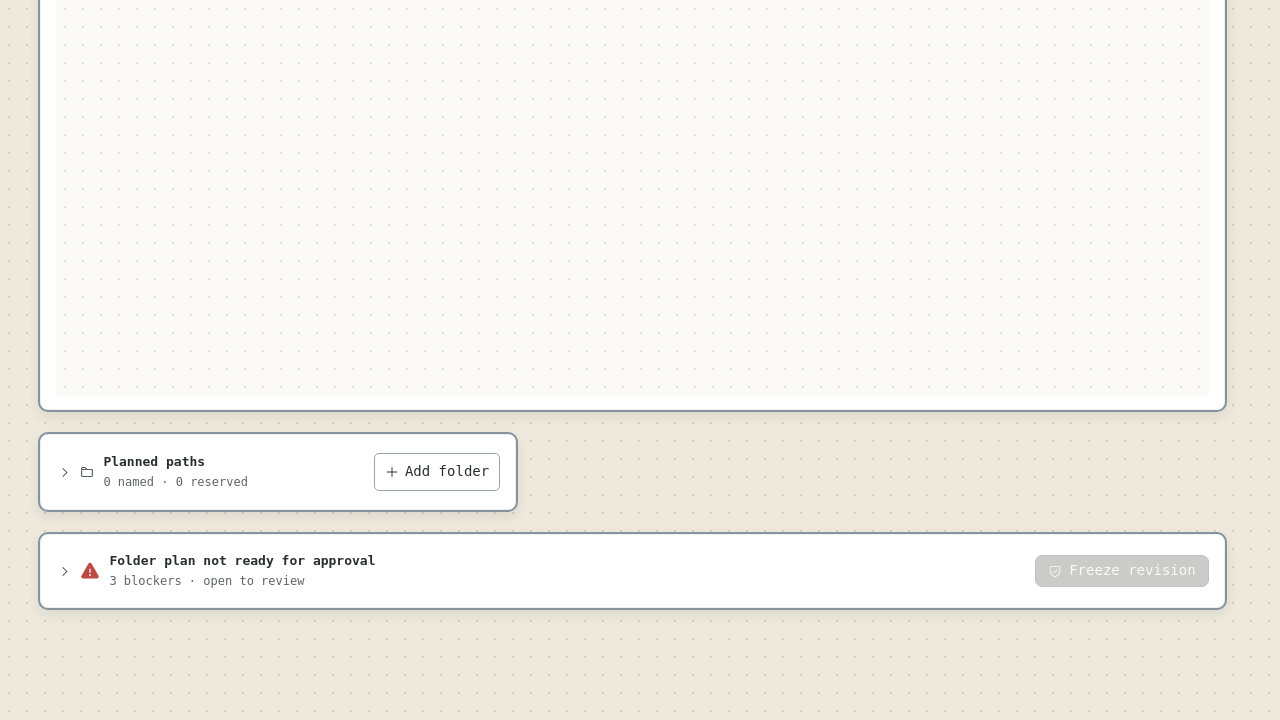
Test case: Define controls › define-14: with no project chosen, Structure shows an empty plan, not the Demo's sample folders
(page scrolled)
Click the button "Planned paths 0 named · 0 reserved".
click(209, 472)  # box [56, 448, 362, 496]
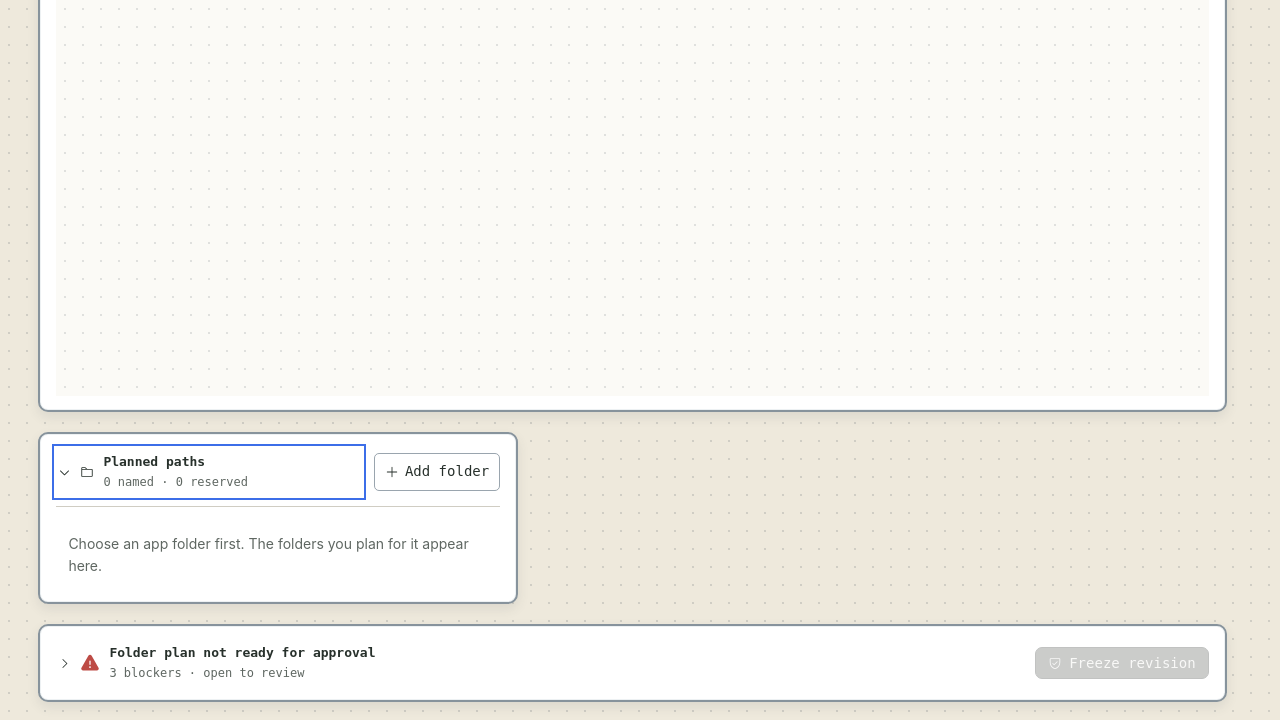
Expected: the text "Choose an app folder first" is shown, [68, 535, 469, 574]
